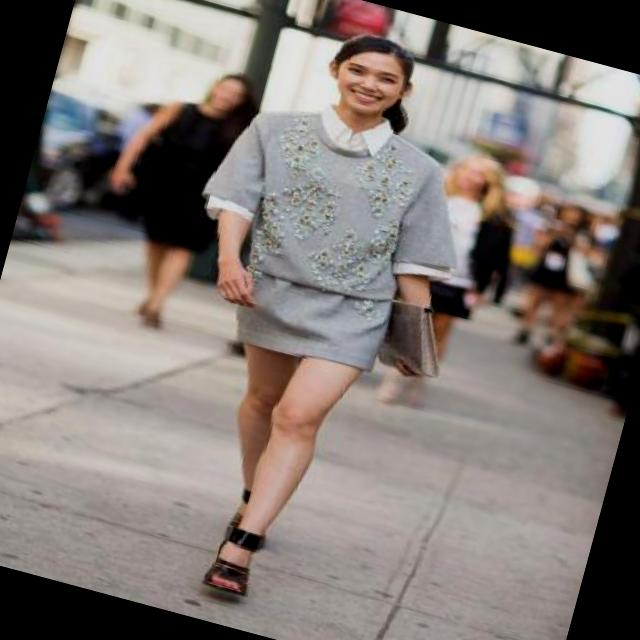Person: (129, 4, 470, 611)
